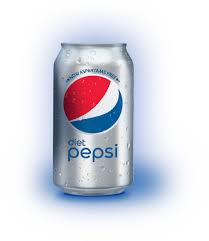can: (49, 39, 139, 202)
